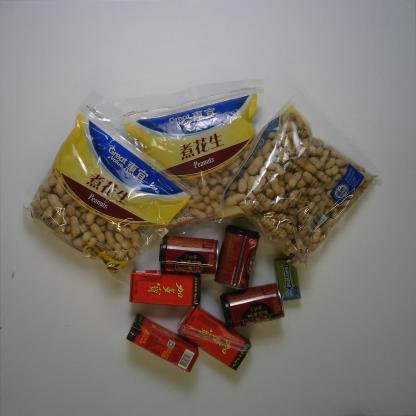Canned Food: (212, 223, 262, 292), (218, 282, 286, 330), (158, 234, 219, 276)
Dried Food: (20, 89, 203, 285), (211, 89, 386, 274), (109, 76, 269, 238)
Drink: (176, 306, 252, 371), (125, 312, 200, 374), (128, 268, 202, 307)
Gum: (272, 258, 302, 303)
